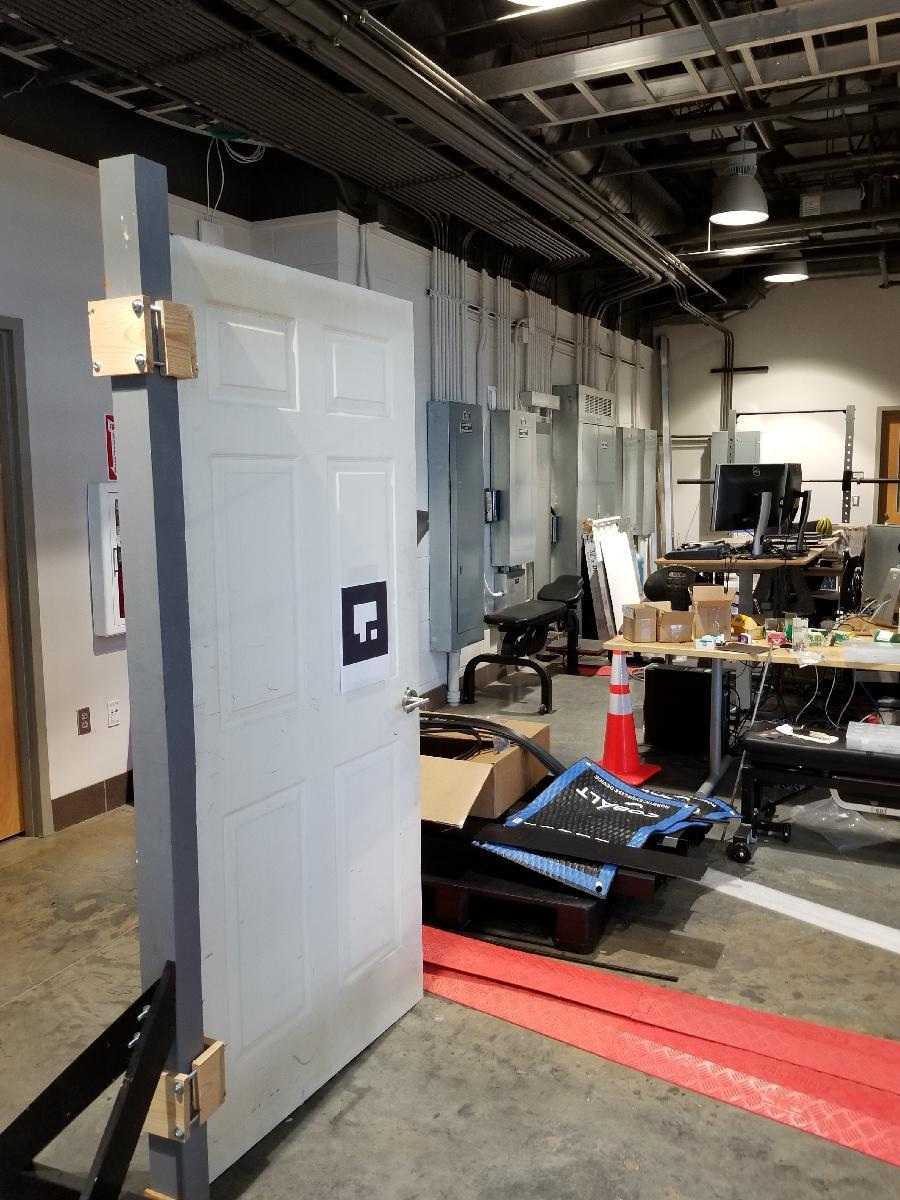door: (176, 233, 426, 1107)
handle: (390, 678, 430, 721)
